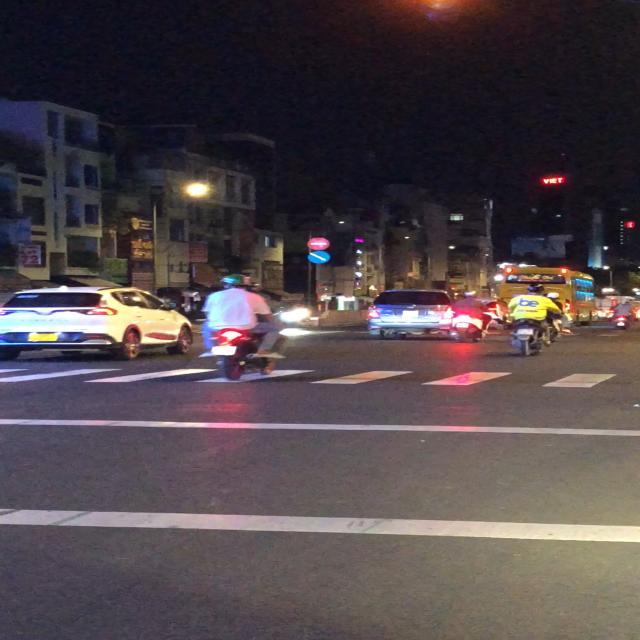Bien bao cam di nguoc chieu: (307, 236, 330, 251)
Bien bao huong phai di vong chuong ngai vat: (306, 251, 332, 264)
